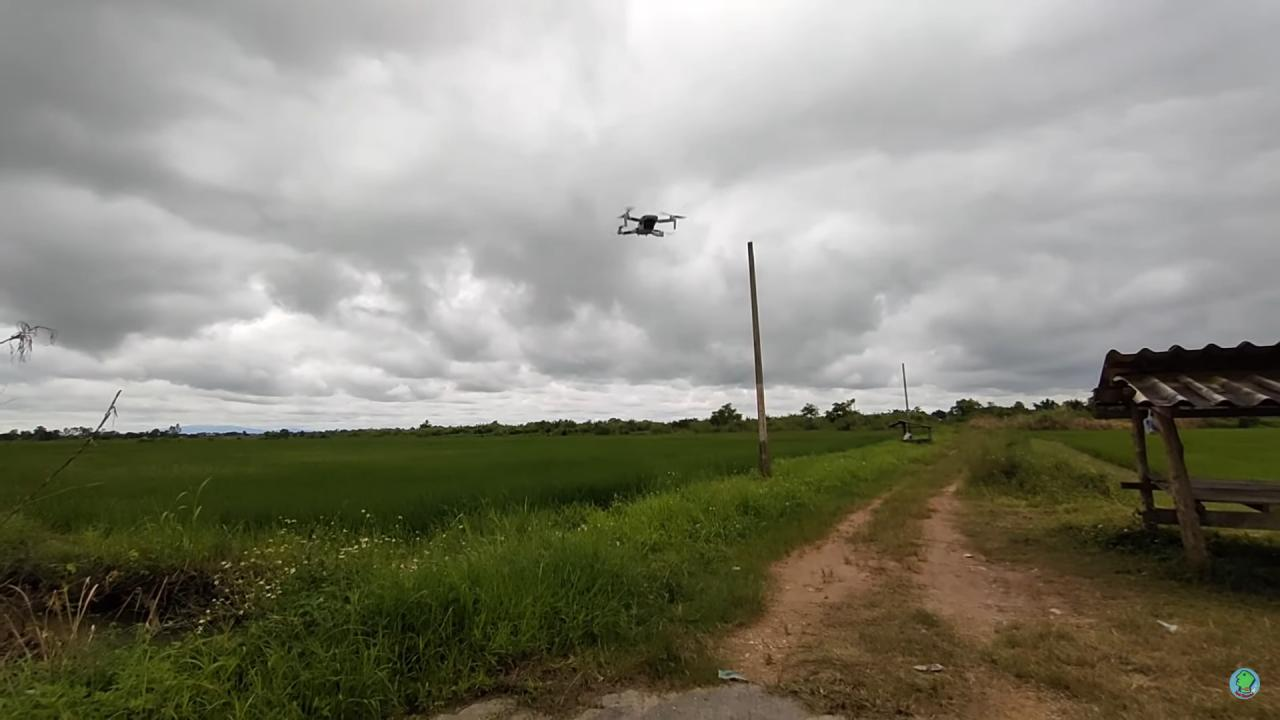Drone: (600, 201, 695, 243)
